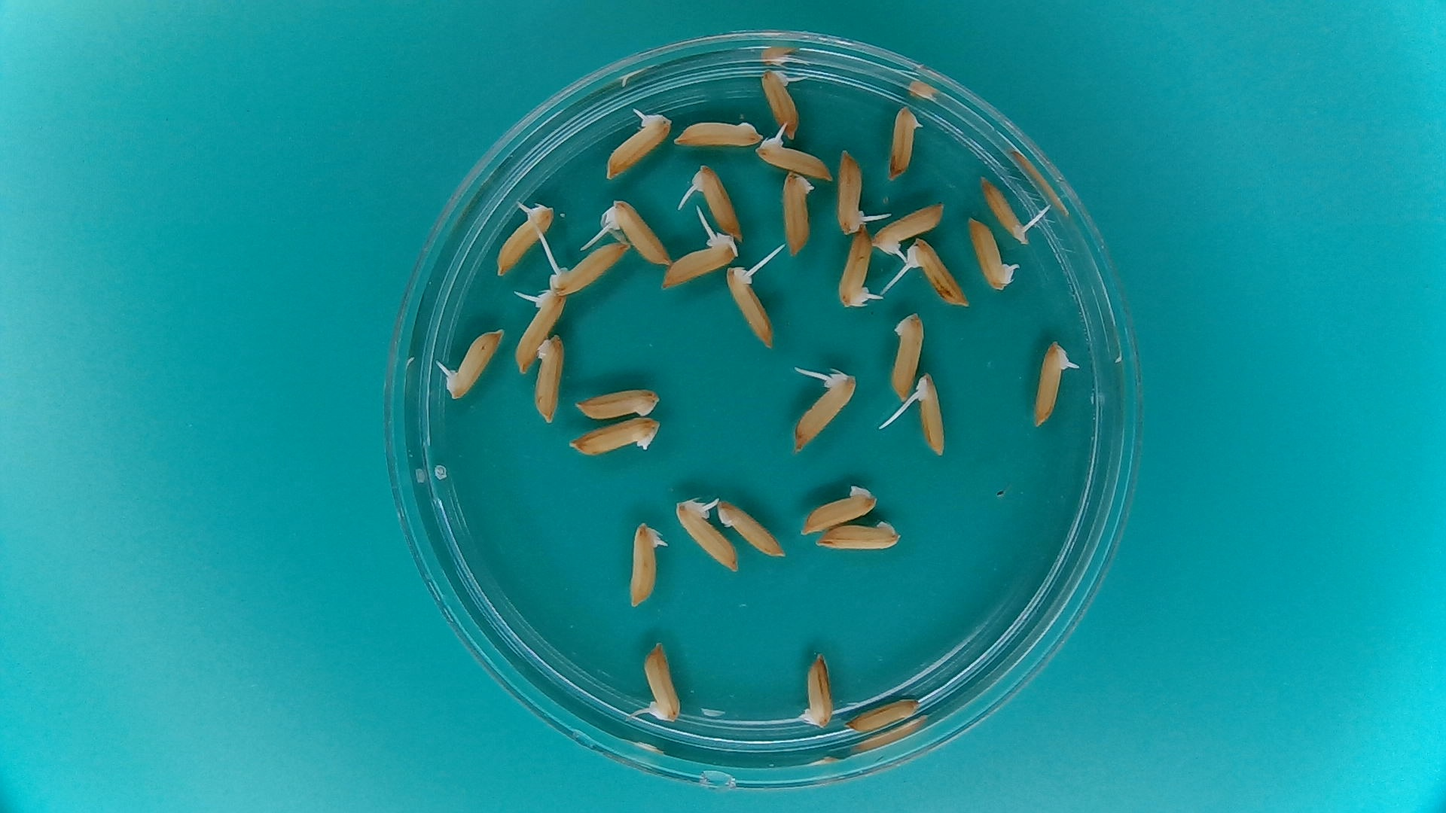no: (796, 480, 879, 537), (714, 496, 787, 560), (567, 415, 664, 457), (530, 327, 569, 428), (780, 169, 819, 258), (842, 693, 922, 736), (671, 113, 761, 151), (573, 385, 664, 422), (890, 307, 926, 400), (813, 518, 904, 554), (796, 647, 835, 729), (886, 100, 923, 181)
yes: (515, 283, 568, 378), (794, 370, 856, 449), (660, 231, 740, 291), (676, 500, 742, 572), (906, 236, 971, 308), (496, 202, 555, 277), (444, 325, 503, 400), (606, 108, 669, 174), (612, 200, 673, 266), (640, 637, 684, 727), (874, 199, 947, 252), (725, 267, 772, 348), (966, 213, 1014, 291), (694, 163, 745, 236), (558, 242, 627, 290), (758, 66, 802, 139), (834, 226, 874, 306), (981, 177, 1028, 243), (1034, 338, 1068, 427), (627, 524, 663, 607), (752, 139, 824, 180), (833, 147, 865, 236), (913, 373, 947, 454)
